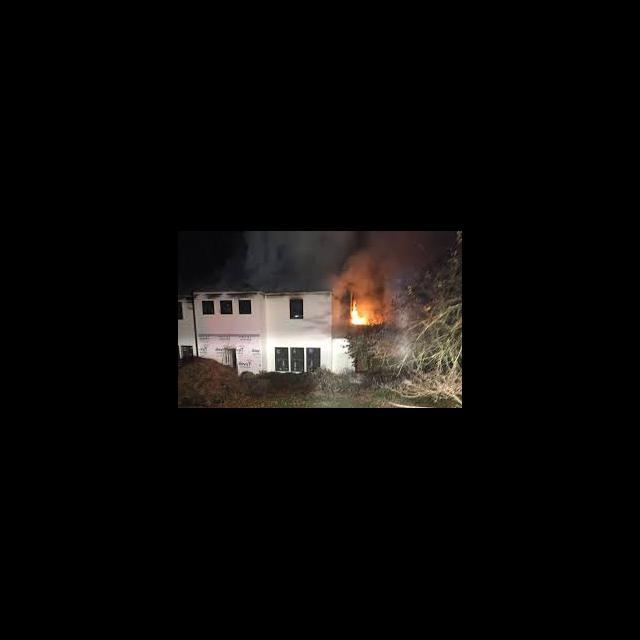Fire: (349, 296, 382, 325)
Smoke: (205, 234, 454, 292)
